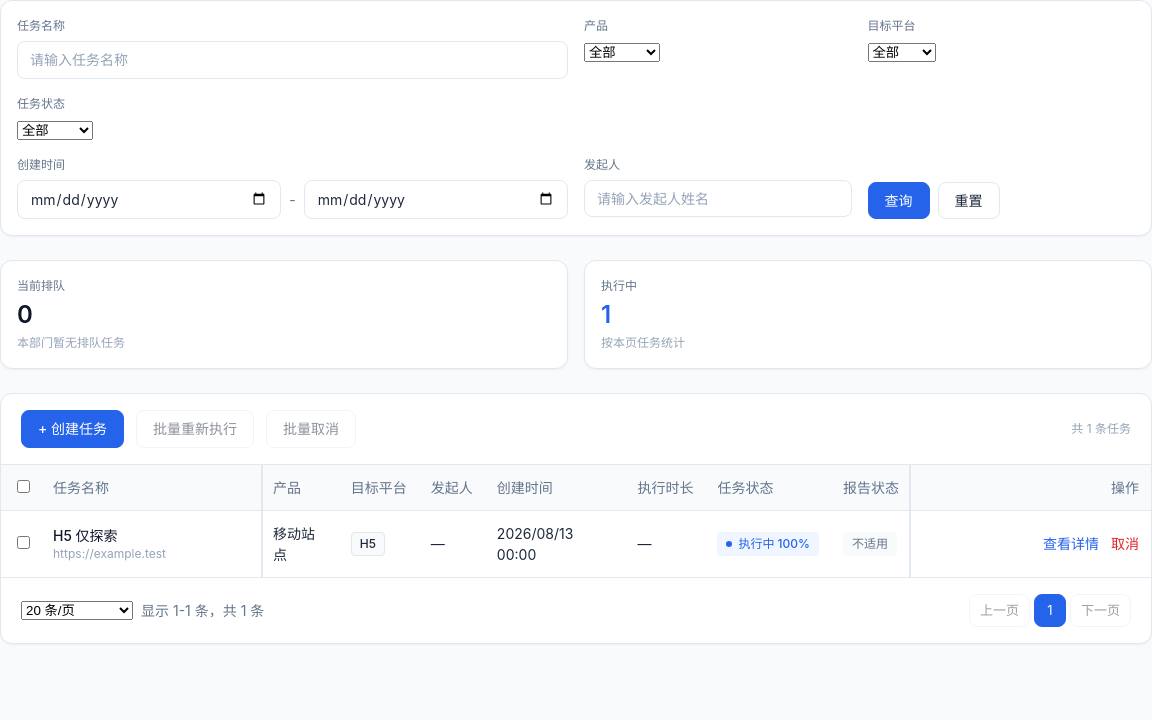
Test: 任务列表布局和返回状态 › 取消请求与任务终态并发时刷新列表，移除旧取消入口
Click the button "取消" at (1125, 544), box [1111,534,1139,554]
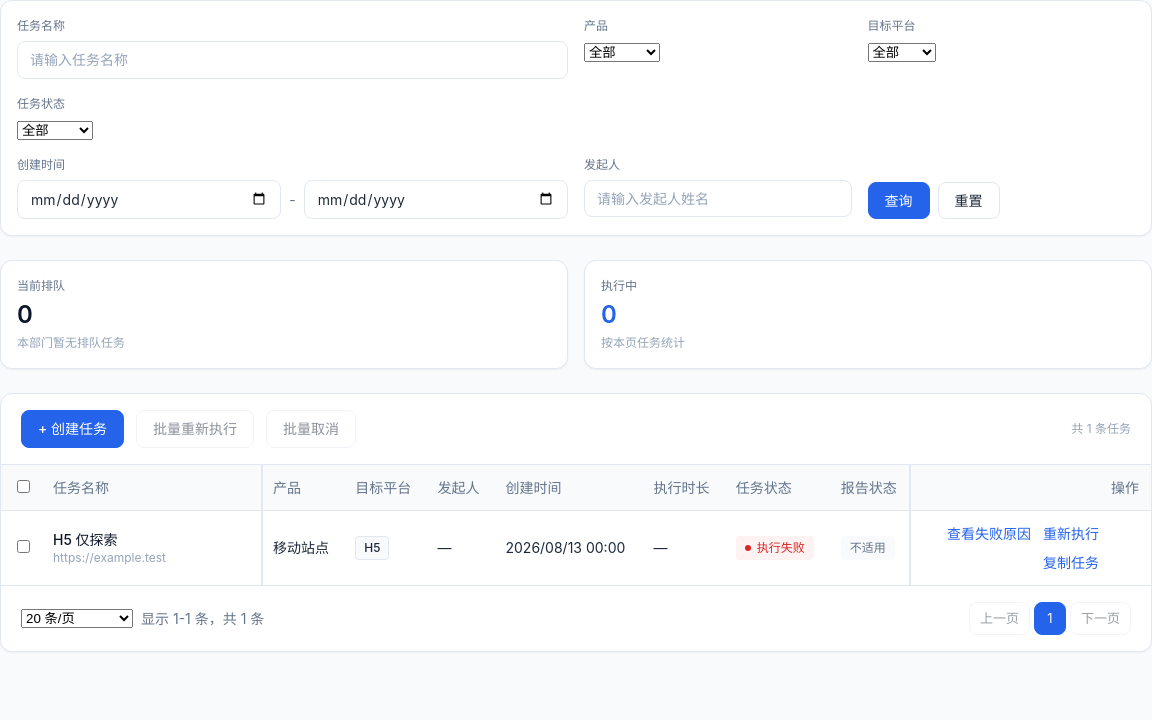
Check: the element with class "actions" does not show "取消"
Check: the text "执行失败" is shown, box [736,536,814,560]
